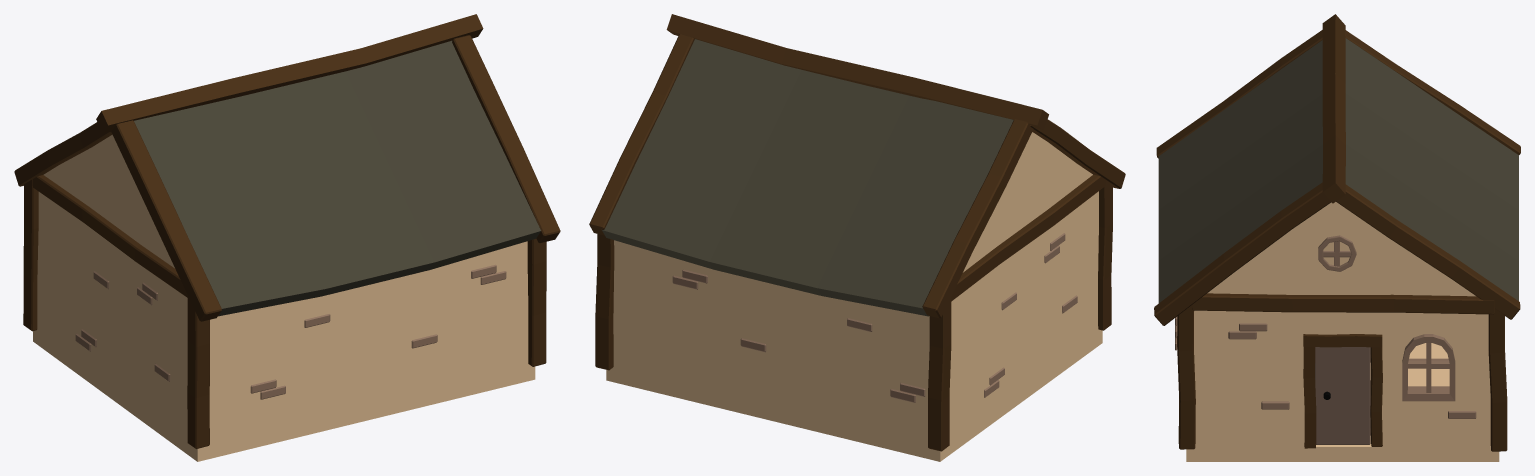
Rendered from house.fbx.
3 renders of one model, left to right at view 1: azimuth 30°, elevation 25°; view 2: azimuth 150°, elevation 25°; view 3: azimuth 270°, elevation 25°, orthographic. The views are drawn at different scales.
Visible parts, largest first — view 1: Plane; view 2: Plane; view 3: Plane, Cube.
Part boxes in pixels (x1,y1,x2,y2): Plane: (14, 14, 560, 461); Plane: (589, 14, 1125, 461); Plane: (1154, 14, 1520, 461); Cube: (1315, 347, 1370, 444).
Size of the model in its own units: 1008 by 779 by 898.
